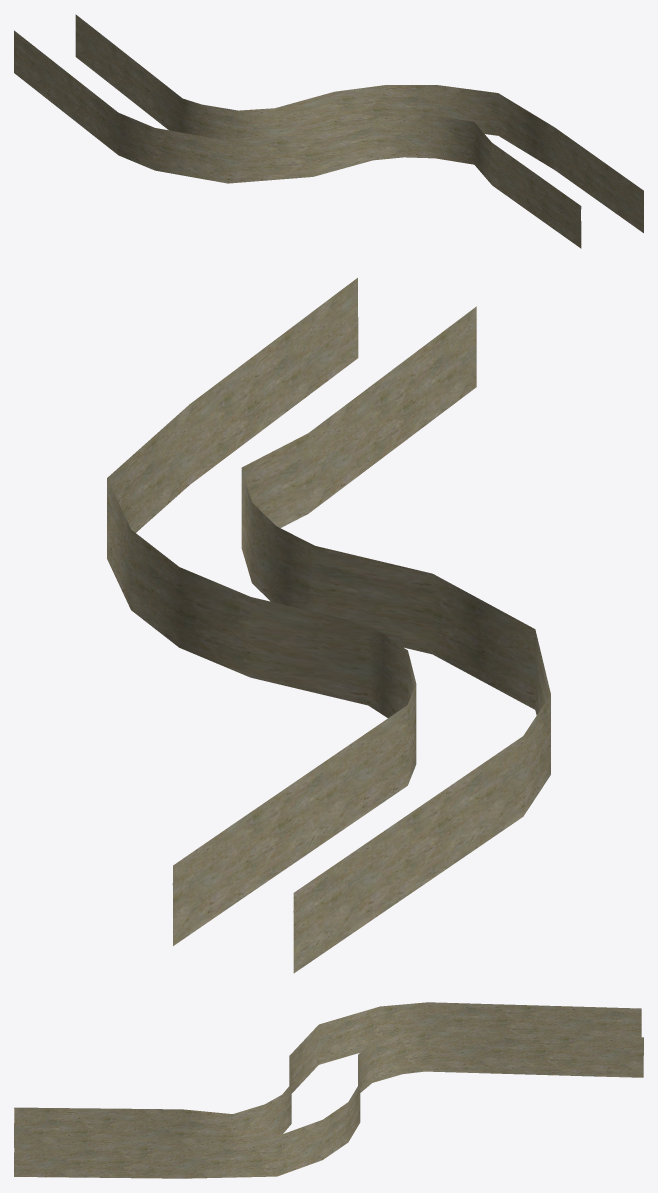
Rendered from CH09_SMAUG_PLAYSURFACE_LAIR108.fbx.
3 views of the same model, one above another, from view 1: azimuth 30°, elevation 25°; view 2: azimuth 150°, elevation 25°; view 3: azimuth 270°, elevation 25° (orthographic). The views are drawn at different scales.
Parts seen in each view (by area): view 1: CH09_SMAUG_PLAYSURFACE_LAIR108; view 2: CH09_SMAUG_PLAYSURFACE_LAIR108; view 3: CH09_SMAUG_PLAYSURFACE_LAIR108.
Part boxes in pixels (x1,y1,x2,y2): CH09_SMAUG_PLAYSURFACE_LAIR108: (14, 14, 643, 248); CH09_SMAUG_PLAYSURFACE_LAIR108: (107, 278, 550, 973); CH09_SMAUG_PLAYSURFACE_LAIR108: (14, 1002, 643, 1178).
Bounding box in the file's own units: 192661 × 31655 × 362948.
1 material, 1 textured.
